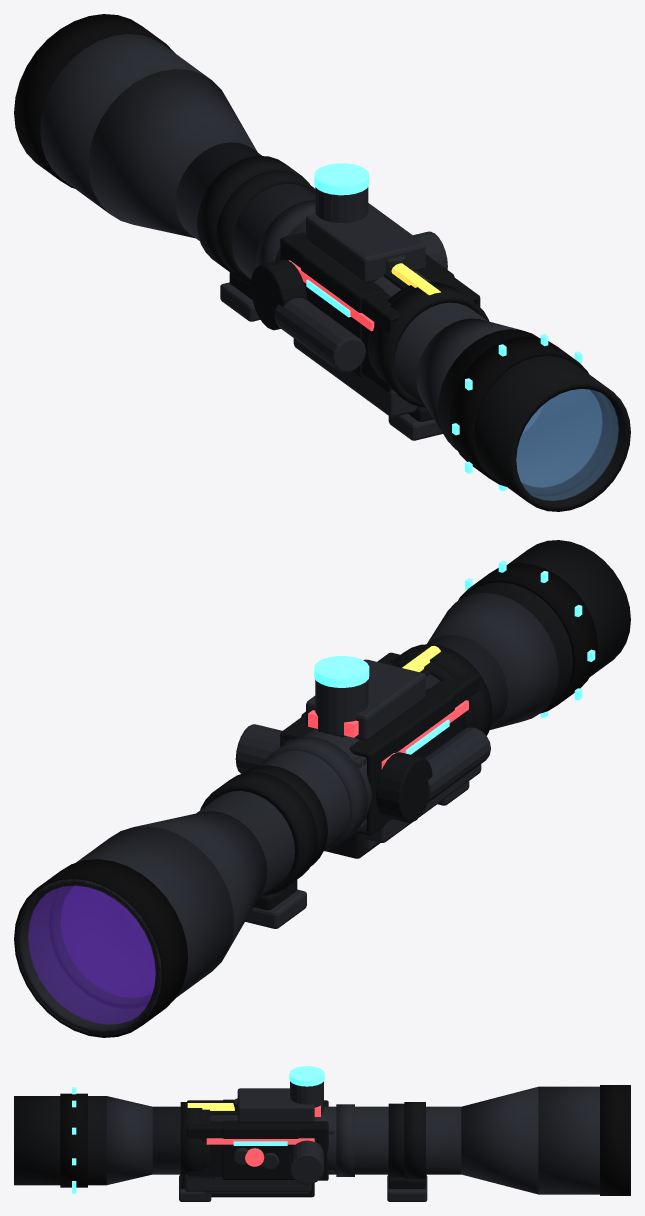
The model's file is sights.glb.
The picture shows the model from 3 angles, top to bottom: view 1: azimuth 30°, elevation 25°; view 2: azimuth 150°, elevation 25°; view 3: azimuth 270°, elevation 25°; orthographic projection. The views are drawn at different scales.
Parts seen in each view (by area): view 1: Sight_variable_Body, Sight_threat_Body, Sight_sniper_Body, Sight_variable_Lens, Sight_sniper_Lens, Sight_holo_Body, Sight_x3_Body; view 2: Sight_variable_Body, Sight_variable_Lens, Sight_sniper_Body, Sight_threat_Body, Sight_sniper_Lens, Sight_holo_Body, Sight_x3_Body, Sight_x2_Body; view 3: Sight_variable_Body, Sight_holo_Body, Sight_threat_Body, Sight_sniper_Body, Sight_x3_Body, Sight_x2_Body, Sight_reddot_Body.
Part boxes in pixels (x1,y1,x2,y2): Sight_variable_Body: (14, 14, 630, 511); Sight_threat_Body: (274, 203, 480, 391); Sight_sniper_Body: (216, 170, 612, 496); Sight_variable_Lens: (516, 389, 618, 500); Sight_sniper_Lens: (517, 389, 601, 486); Sight_holo_Body: (293, 250, 454, 417); Sight_x3_Body: (255, 199, 440, 295); Sight_variable_Body: (14, 540, 630, 1037); Sight_variable_Lens: (28, 885, 155, 1024); Sight_sniper_Body: (49, 658, 473, 1008); Sight_threat_Body: (280, 652, 490, 856); Sight_sniper_Lens: (61, 886, 155, 997); Sight_holo_Body: (301, 688, 481, 845); Sight_x3_Body: (261, 645, 440, 851); Sight_x2_Body: (285, 739, 380, 858); Sight_variable_Body: (14, 1066, 630, 1201); Sight_holo_Body: (182, 1099, 311, 1197); Sight_threat_Body: (186, 1088, 328, 1195); Sight_sniper_Body: (189, 1103, 409, 1201); Sight_x3_Body: (187, 1098, 354, 1196); Sight_x2_Body: (211, 1128, 334, 1197); Sight_reddot_Body: (237, 1147, 284, 1197).
Bounding box in the file's own units: 0.083 × 0.086 × 0.4.
